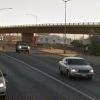Bridge: (4, 14, 99, 42)
